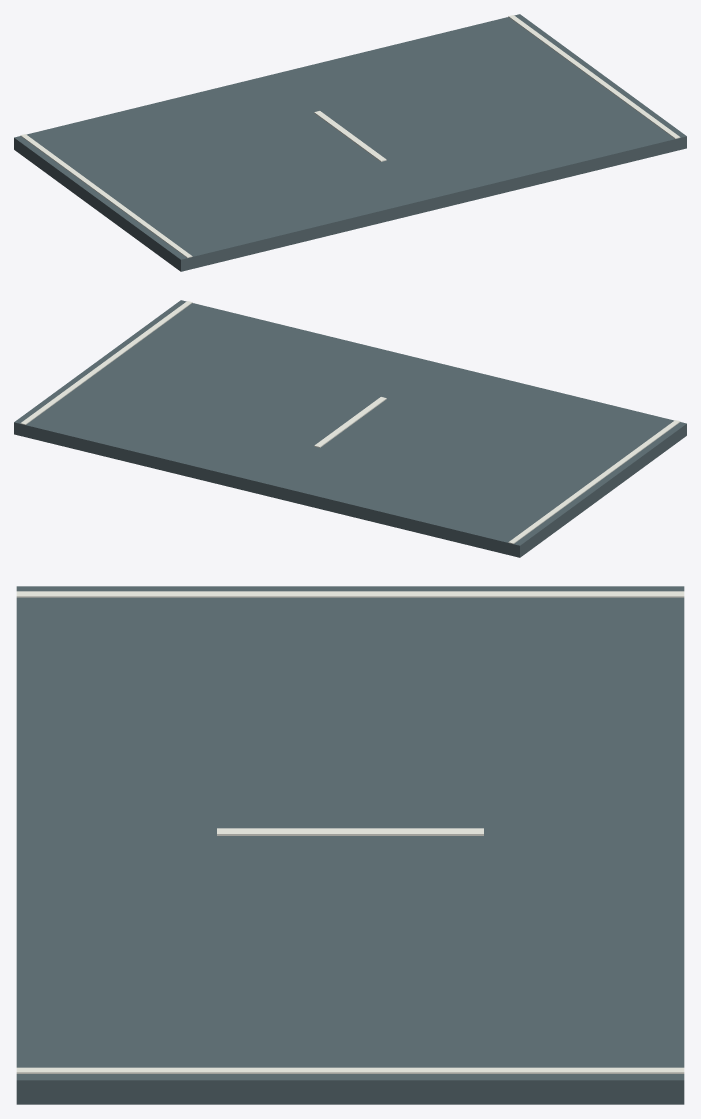
The model's file is RoadModule.fbx.
The picture shows the model from 3 angles, top to bottom: view 1: azimuth 30°, elevation 25°; view 2: azimuth 150°, elevation 25°; view 3: azimuth 270°, elevation 25°; orthographic projection. The views are drawn at different scales.
Parts seen in each view (by area): view 1: Asphalt, EdgeLine, EdgeLine.001, CentreDash; view 2: Asphalt, EdgeLine, EdgeLine.001, CentreDash; view 3: Asphalt, EdgeLine, EdgeLine.001, CentreDash.
Part boxes in pixels (x1,y1,x2,y2): Asphalt: (14, 14, 686, 271); EdgeLine: (20, 134, 192, 257); EdgeLine.001: (508, 15, 680, 138); CentreDash: (314, 111, 386, 161); Asphalt: (14, 300, 686, 557); EdgeLine: (508, 420, 680, 543); EdgeLine.001: (20, 301, 192, 424); CentreDash: (314, 397, 386, 447); Asphalt: (16, 586, 684, 1104); EdgeLine: (16, 591, 684, 597); EdgeLine.001: (16, 1067, 684, 1073); CentreDash: (217, 828, 483, 835).
Bounding box in the file's own units: 14 × 0.3475 × 8.
